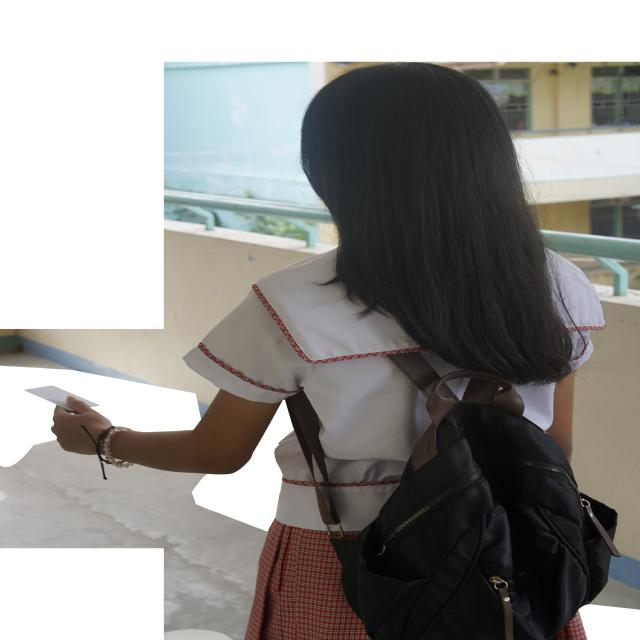pologirl: (184, 250, 428, 483), (551, 254, 603, 366), (340, 485, 395, 529), (279, 484, 322, 532)
